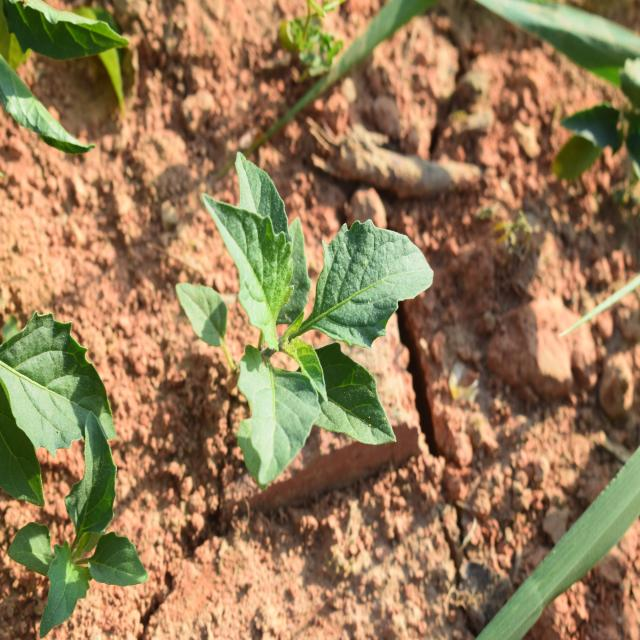Black_nightshade: (185, 176, 425, 462), (19, 404, 141, 633)
